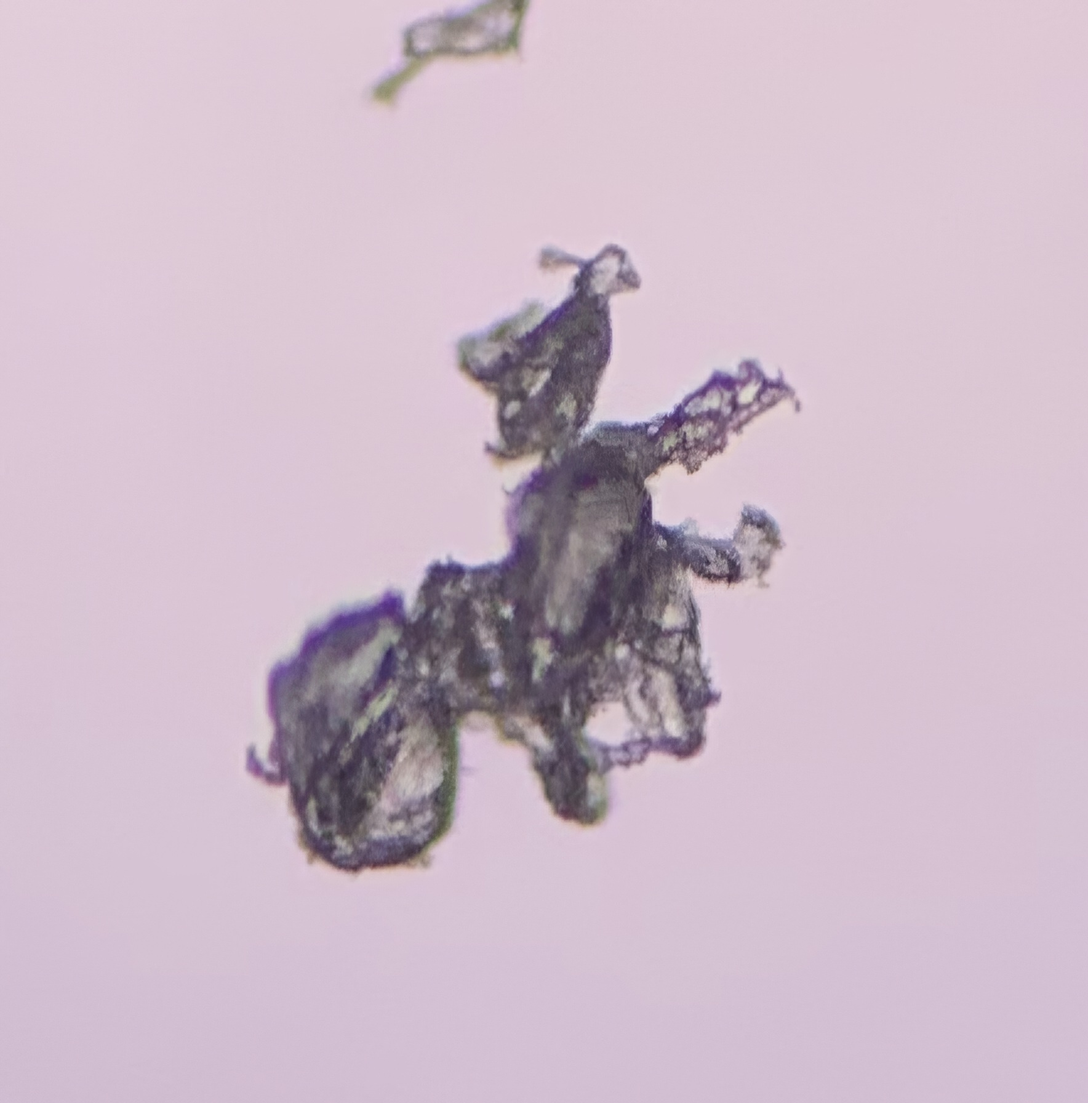microplastic: (244, 236, 805, 880), (356, 1, 534, 103)
